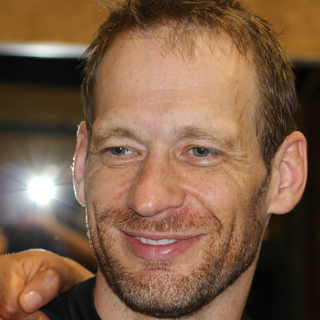eye: (177, 140, 224, 165), (96, 140, 143, 164)
